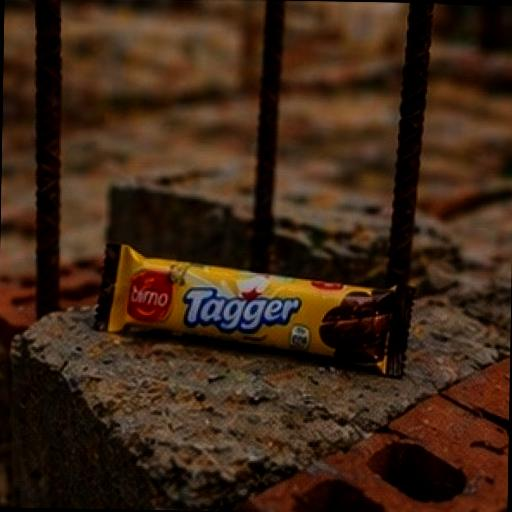tagger: (60, 201, 466, 427)
